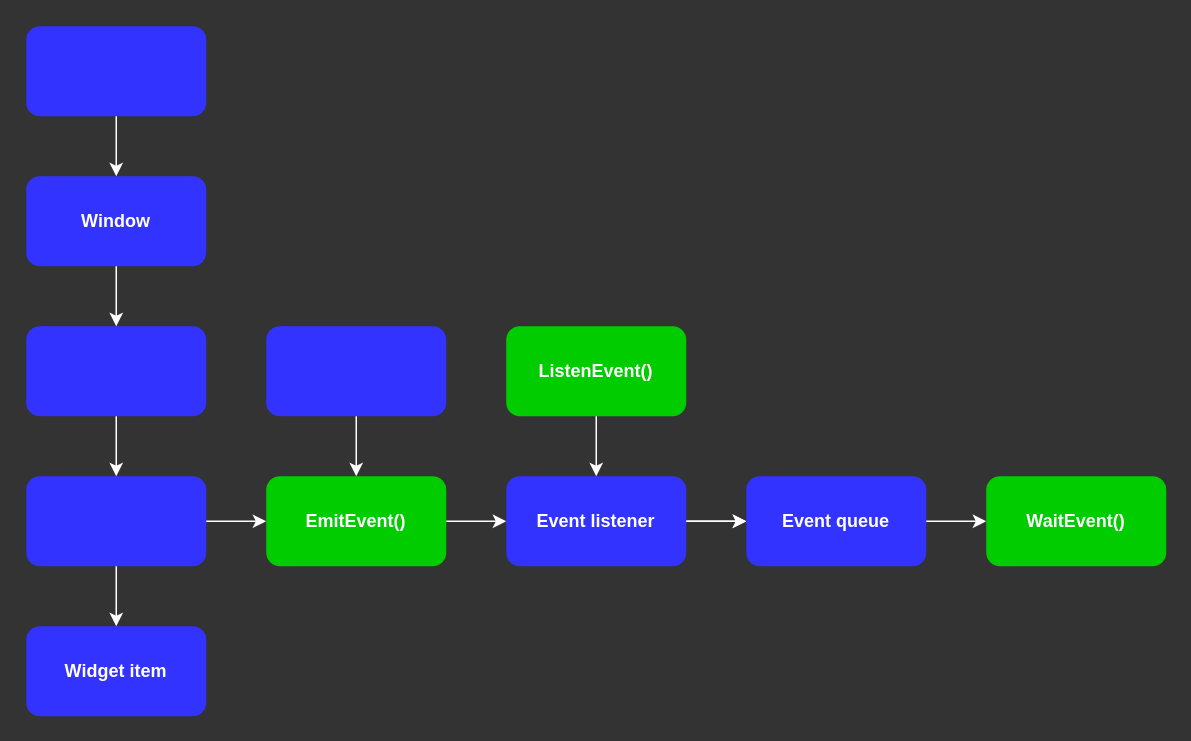
This 1191x741 diagram has some shape labels left out. Here are the shapes that lost their labels. From the top down, the centre of each, then its label:
the point at 116,71: Display
the point at 116,371: Interface
the point at 356,371: Timer
the point at 116,521: Widget
